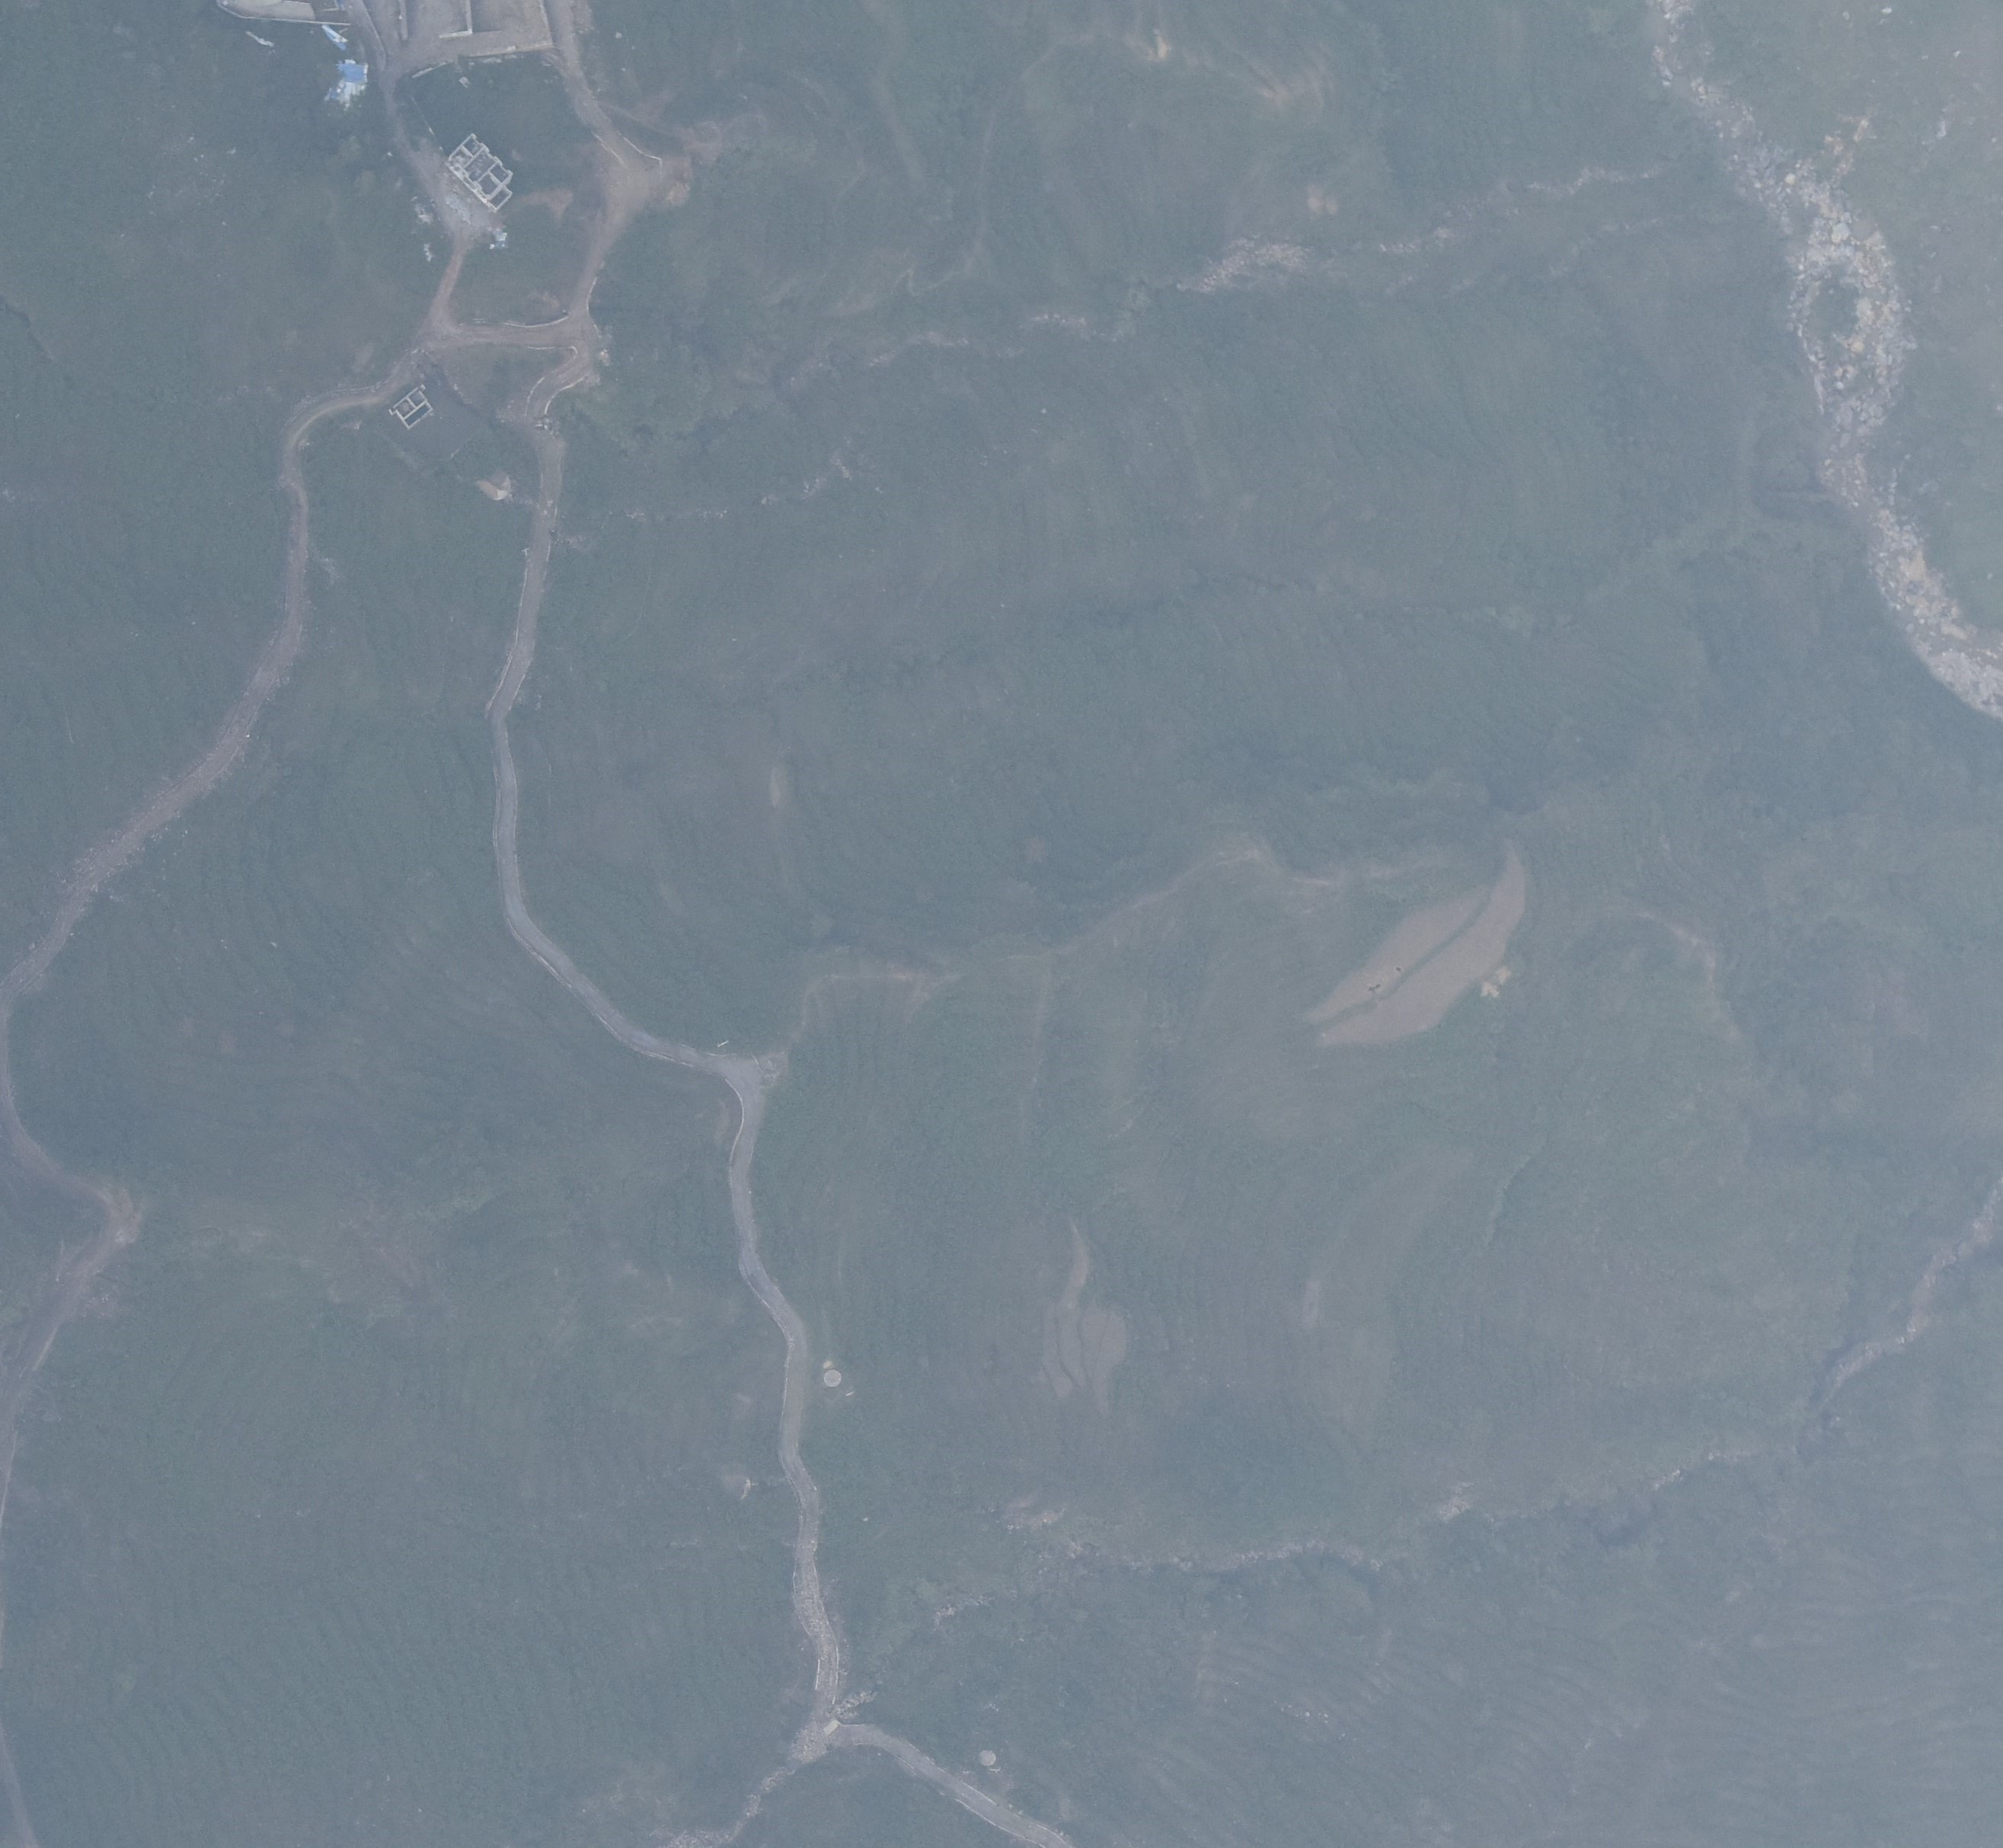building: (441, 131, 522, 211), (386, 382, 438, 431)
pool: (1319, 824, 1535, 1042), (1303, 880, 1492, 1026)
prefabricated-house: (335, 58, 372, 86)
well: (822, 1366, 848, 1389), (974, 1747, 1000, 1768)
